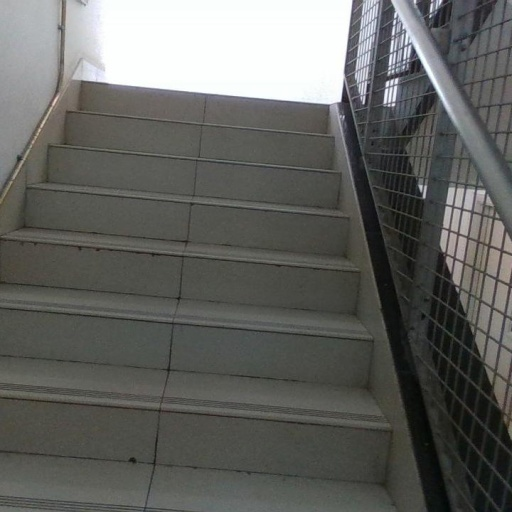Stairs: (0, 82, 390, 510)
